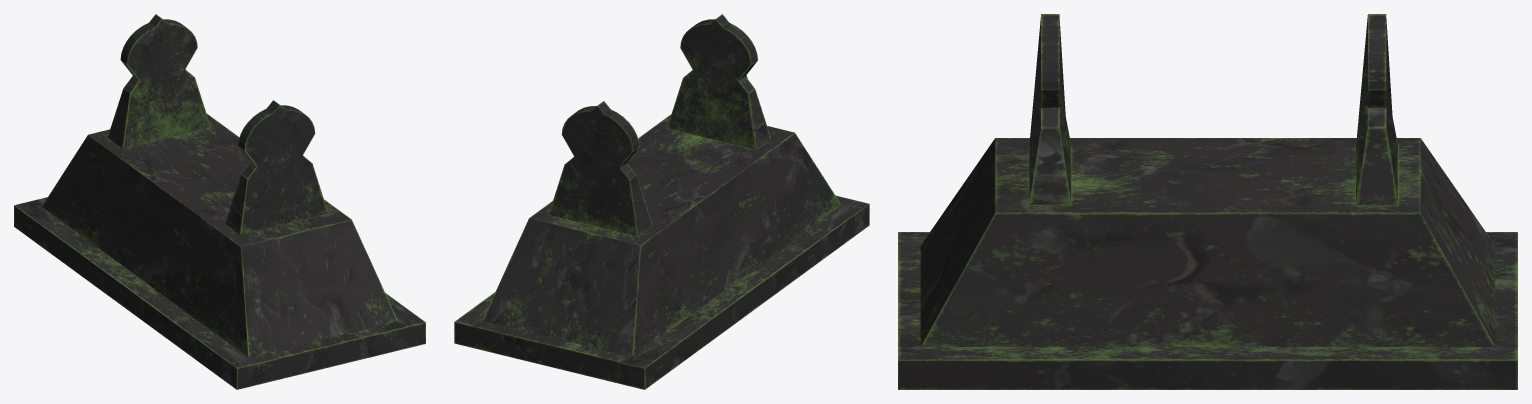
Rendered from Tomb1.fbx.
The picture shows the model from 3 angles, left to right: view 1: azimuth 30°, elevation 25°; view 2: azimuth 150°, elevation 25°; view 3: azimuth 270°, elevation 25°; orthographic projection. The views are drawn at different scales.
Visible parts, largest first — view 1: Tomb; view 2: Tomb; view 3: Tomb.
Part boxes in pixels (bbox=[...]): Tomb: bbox=[14, 14, 425, 389]; Tomb: bbox=[454, 14, 869, 389]; Tomb: bbox=[898, 14, 1517, 389].
Size of the model in its own units: 387 by 438 by 790.
